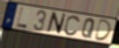3: (33, 10, 47, 32)
C: (63, 14, 82, 37)
D: (93, 18, 113, 42)
L: (15, 7, 28, 29)
N: (45, 11, 67, 36)
Q: (81, 18, 96, 40)
